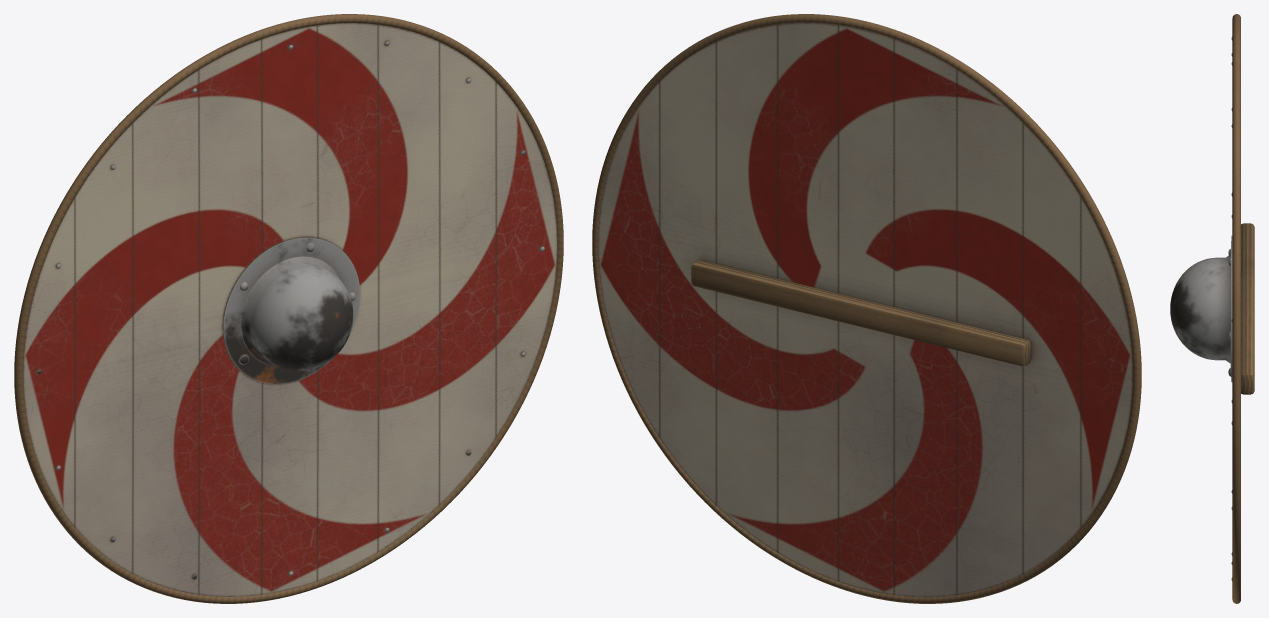
The model's file is round_shield.glb.
3 views of the same model, side by side, from view 1: azimuth 30°, elevation 25°; view 2: azimuth 150°, elevation 25°; view 3: azimuth 270°, elevation 25° (orthographic). The views are drawn at different scales.
Visible parts, largest first — view 1: round_shield; view 2: round_shield; view 3: round_shield.
Boxes of the visible parts, bbox=[...] form: round_shield: bbox=[14, 14, 563, 603]; round_shield: bbox=[592, 14, 1141, 603]; round_shield: bbox=[1170, 14, 1254, 603].
Bounding box in the file's own units: 0.8504 × 0.8504 × 0.122.
Materials: 1 (1 with a texture image).
